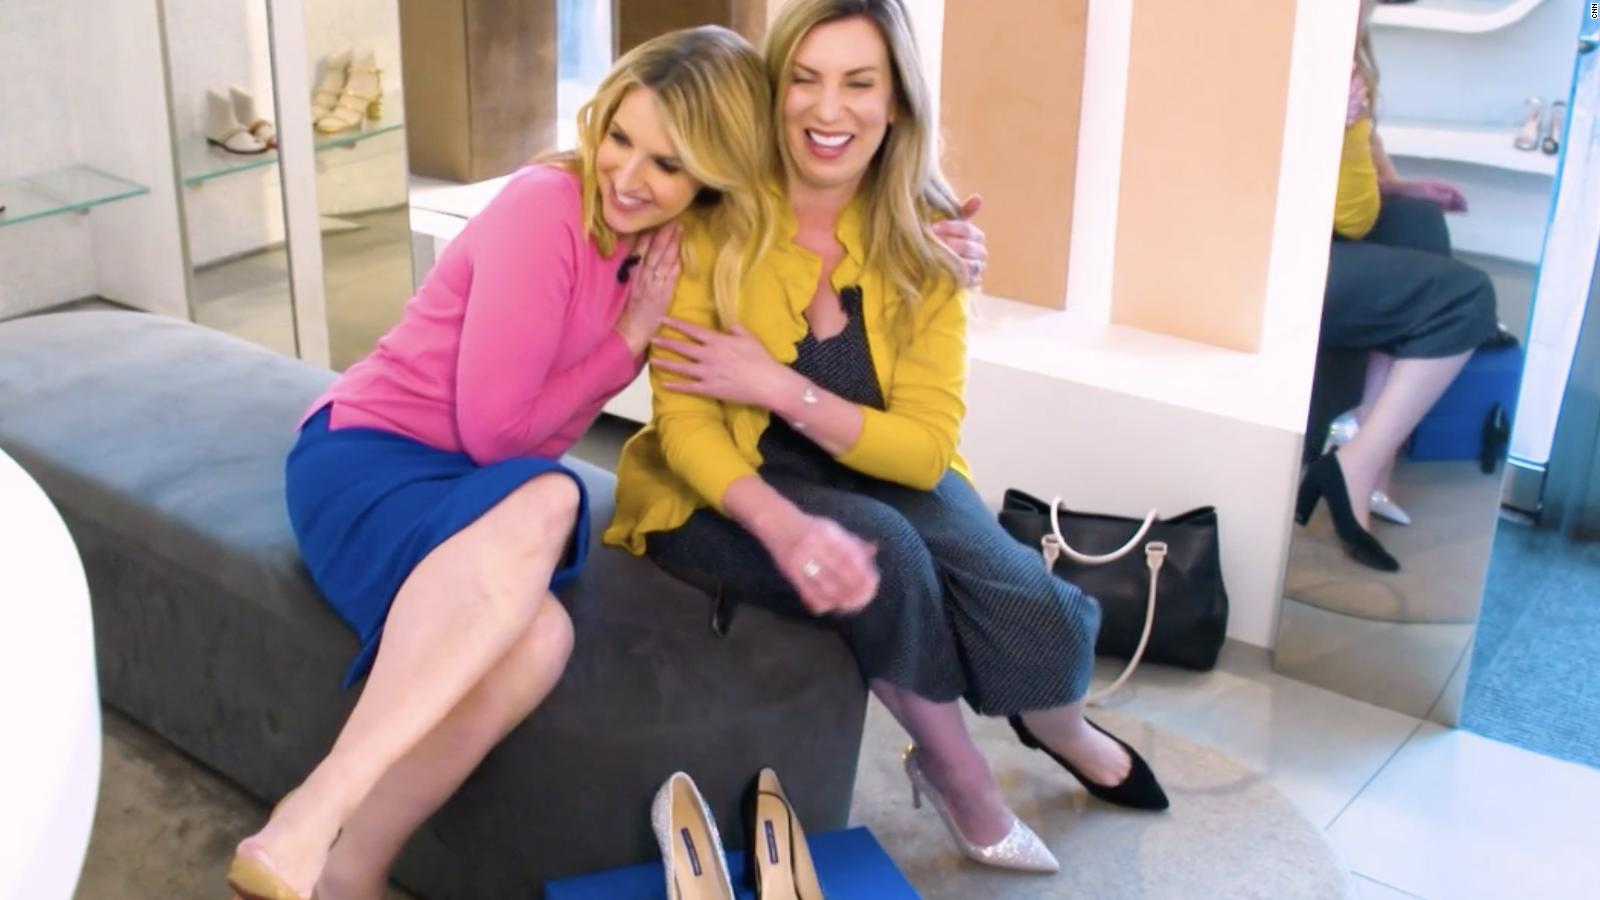Person: (300, 8, 700, 900), (750, 8, 1133, 900)
